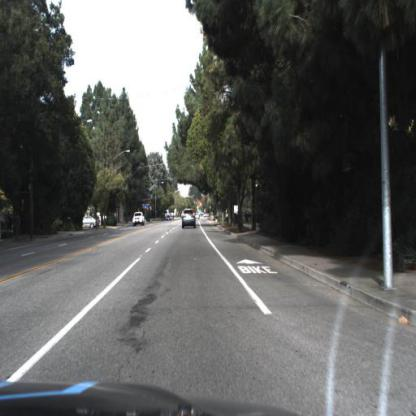car: (181, 209, 199, 233), (81, 214, 98, 232), (132, 210, 146, 230)
